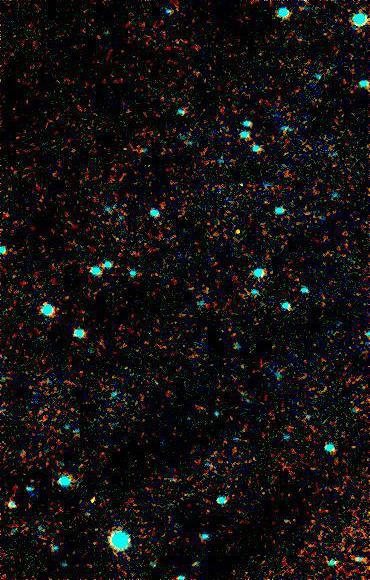star: (222, 219, 252, 249)
